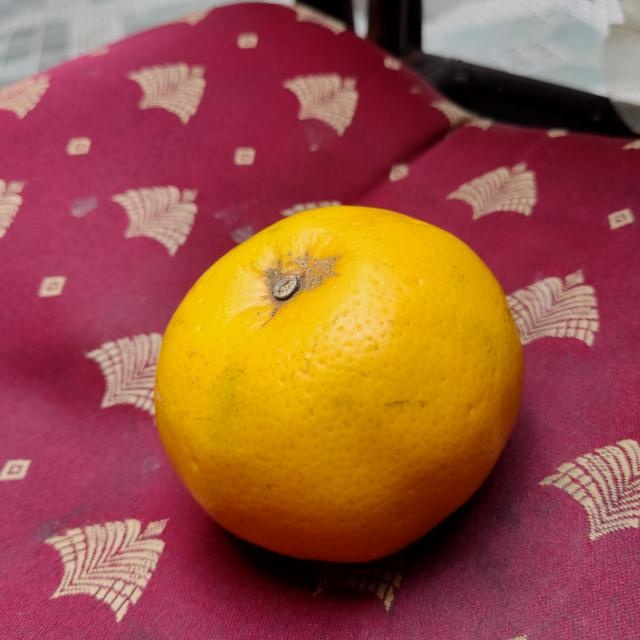agrume: (154, 202, 529, 566)
